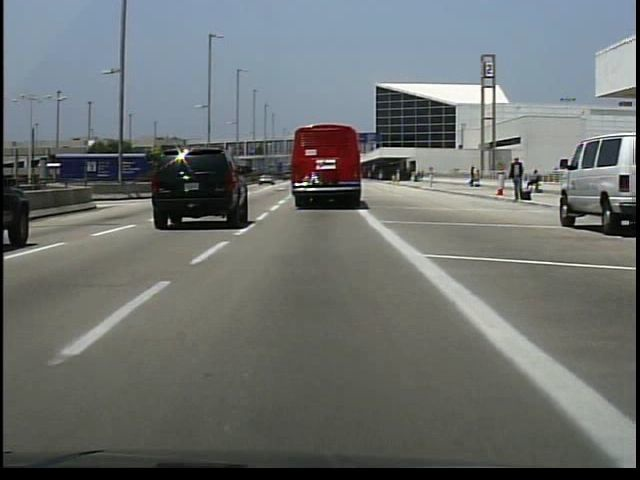person: (506, 155, 529, 208), (524, 167, 544, 197)
